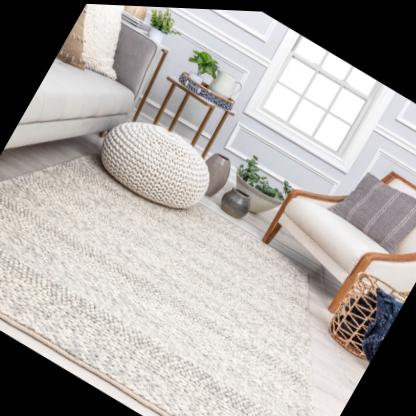Carpet: (0, 144, 314, 416)
